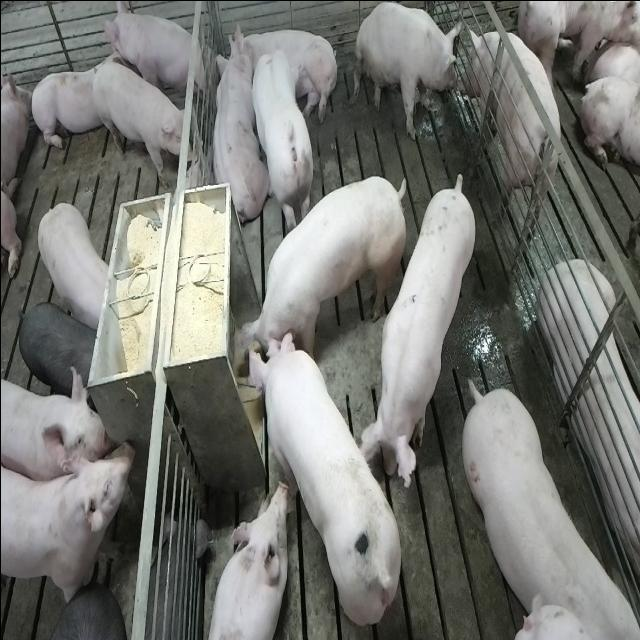Feeding: (248, 328, 408, 626), (224, 170, 400, 382)
Sitting: (354, 1, 461, 142), (102, 0, 204, 99)
Standing: (456, 376, 635, 634), (356, 166, 472, 488), (1, 439, 136, 612), (458, 24, 558, 232), (3, 365, 110, 483), (94, 61, 190, 188), (250, 49, 314, 239), (36, 197, 112, 328), (18, 302, 100, 400), (38, 581, 124, 638)
Sternal_lying: (540, 262, 640, 597), (201, 482, 286, 640), (28, 51, 124, 155)
